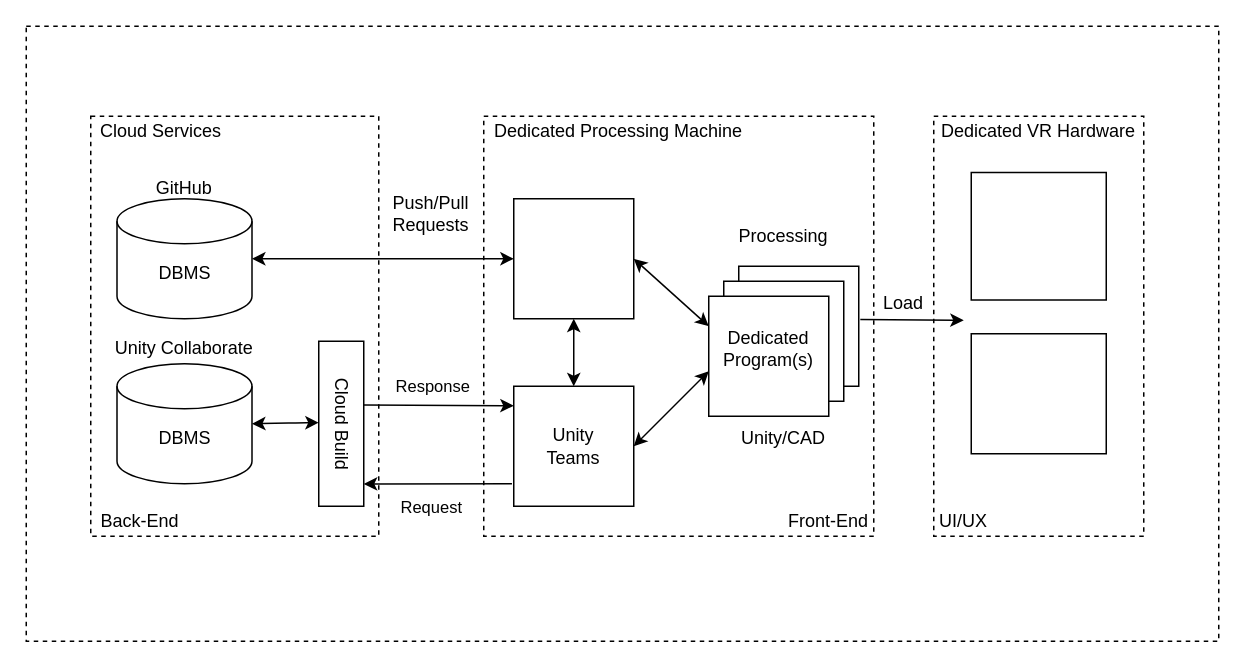
Some shapes in this 1245 by 668 pixel diagram are drawn without their labels. The shapes that lost their labels are listed below. From the top down, each one's centre as x and y in pixels, then its label:
At point (1038, 235): "Visualization Module".
At point (573, 258): "Local Storage".
At point (1038, 393): "Controller Module".
